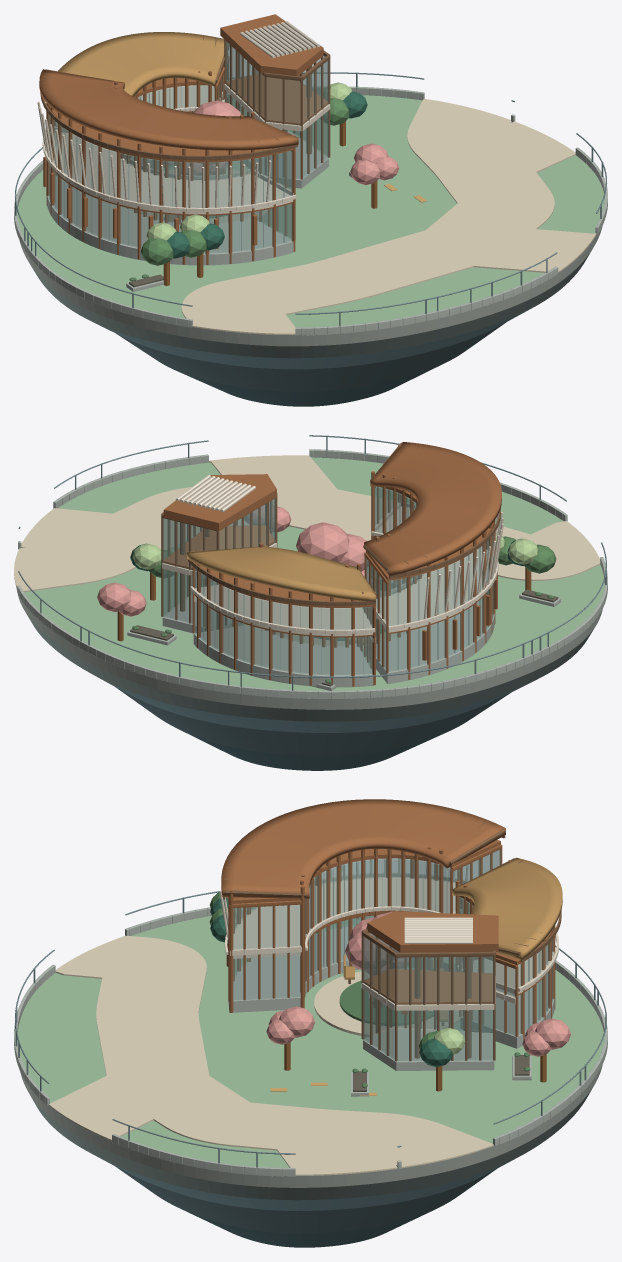
3 renders of one model, top to bottom at view 1: azimuth 30°, elevation 25°; view 2: azimuth 150°, elevation 25°; view 3: azimuth 270°, elevation 25°, orthographic. The views are drawn at different scales.
Parts seen in each view (by area): view 1: ROLE_terrain_Components__grass, ROLE_paving_Components__paveLight, ROLE_building_Components__careGlass, ROLE_building_Components__careRoof, ROLE_building_Components__careLinen, ROLE_roof_Components__careRoof, ROLE_building_Components__stone2, ROLE_roof_Components__warmwood, ROLE_terrain_Components__cliff2, ROLE_terrain_Components__stone2, ROLE_terrain_Components__cliff3, ROLE_rails_Components__stone2 (+10 smaller); view 2: ROLE_terrain_Components__grass, ROLE_building_Components__careGlass, ROLE_paving_Components__paveLight, ROLE_building_Components__careRoof, ROLE_roof_Components__careRoof, ROLE_building_Components__careLinen, ROLE_building_Components__stone2, ROLE_rails_Components__stone2, ROLE_terrain_Components__cliff2, ROLE_terrain_Components__cliff3, ROLE_terrain_Components__stone2, ROLE_roof_Components__warmwood (+11 smaller); view 3: ROLE_terrain_Components__grass, ROLE_paving_Components__paveLight, ROLE_building_Components__careGlass, ROLE_roof_Components__careRoof, ROLE_building_Components__careRoof, ROLE_building_Components__careLinen, ROLE_building_Components__stone2, ROLE_terrain_Components__stone2, ROLE_roof_Components__warmwood, ROLE_terrain_Components__cliff3, ROLE_terrain_Components__cliff2, ROLE_building_Components__copperdark (+9 smaller).
Boxes of the visible parts, bbox=[...] form: ROLE_terrain_Components__grass: bbox=[17, 95, 604, 327]; ROLE_paving_Components__paveLight: bbox=[132, 99, 596, 334]; ROLE_building_Components__careGlass: bbox=[48, 40, 328, 253]; ROLE_building_Components__careRoof: bbox=[43, 53, 328, 264]; ROLE_building_Components__careLinen: bbox=[37, 21, 330, 214]; ROLE_roof_Components__careRoof: bbox=[39, 14, 323, 150]; ROLE_building_Components__stone2: bbox=[47, 129, 328, 265]; ROLE_roof_Components__warmwood: bbox=[58, 32, 227, 96]; ROLE_terrain_Components__cliff2: bbox=[117, 322, 505, 391]; ROLE_terrain_Components__stone2: bbox=[19, 226, 602, 346]; ROLE_terrain_Components__cliff3: bbox=[31, 252, 590, 358]; ROLE_rails_Components__stone2: bbox=[14, 86, 607, 335]; ROLE_terrain_Components__grass: bbox=[24, 457, 604, 690]; ROLE_building_Components__careGlass: bbox=[163, 486, 493, 675]; ROLE_paving_Components__paveLight: bbox=[14, 455, 600, 651]; ROLE_building_Components__careRoof: bbox=[163, 444, 497, 686]; ROLE_roof_Components__careRoof: bbox=[163, 442, 501, 576]; ROLE_building_Components__careLinen: bbox=[162, 475, 503, 642]; ROLE_building_Components__stone2: bbox=[162, 577, 494, 687]; ROLE_rails_Components__stone2: bbox=[17, 449, 607, 698]; ROLE_terrain_Components__cliff2: bbox=[115, 687, 510, 755]; ROLE_terrain_Components__cliff3: bbox=[26, 614, 593, 721]; ROLE_terrain_Components__stone2: bbox=[16, 586, 602, 709]; ROLE_roof_Components__warmwood: bbox=[187, 546, 375, 601]; ROLE_terrain_Components__grass: bbox=[17, 915, 604, 1167]; ROLE_paving_Components__paveLight: bbox=[48, 935, 493, 1175]; ROLE_building_Components__careGlass: bbox=[233, 849, 553, 1061]; ROLE_roof_Components__careRoof: bbox=[221, 799, 505, 952]; ROLE_building_Components__careRoof: bbox=[228, 840, 555, 1040]; ROLE_building_Components__careLinen: bbox=[219, 858, 558, 1010]; ROLE_building_Components__stone2: bbox=[228, 926, 554, 1070]; ROLE_terrain_Components__stone2: bbox=[20, 1065, 602, 1187]; ROLE_roof_Components__warmwood: bbox=[452, 857, 562, 959]; ROLE_terrain_Components__cliff3: bbox=[30, 1086, 593, 1200]; ROLE_terrain_Components__cliff2: bbox=[115, 1166, 496, 1233]; ROLE_building_Components__copperdark: bbox=[361, 928, 495, 1061].
Bounding box in the file's own units: 29.84 × 15.15 × 27.84.
